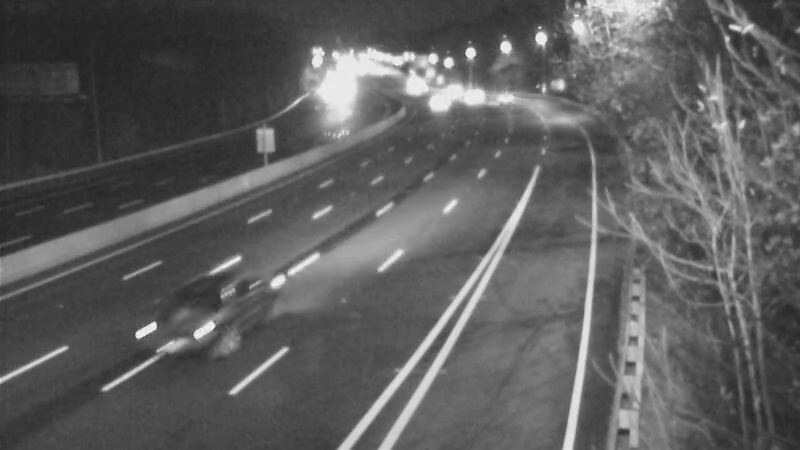vehicle: (122, 280, 232, 390), (417, 78, 467, 128), (481, 77, 531, 127)
